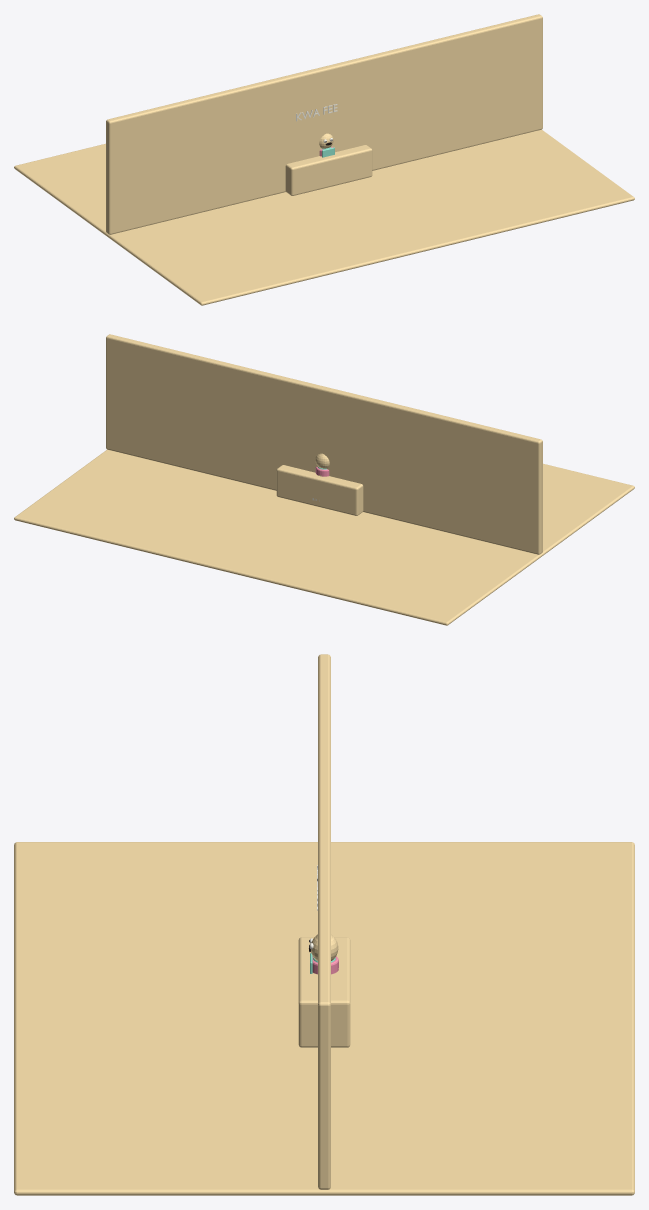
The model's file is core.glb.
3 renders of one model, top to bottom at view 1: azimuth 30°, elevation 25°; view 2: azimuth 150°, elevation 25°; view 3: azimuth 270°, elevation 25°, orthographic. The views are drawn at different scales.
Parts seen in each view (by area): view 1: Wall, Floor, Counter; view 2: Wall, Floor, Counter; view 3: Floor, Wall, Counter.
Boxes of the visible parts, x1,y1,x2,y2 form: Wall: (106, 14, 542, 234); Floor: (14, 129, 634, 305); Counter: (285, 145, 372, 195); Wall: (106, 334, 542, 554); Floor: (14, 449, 634, 625); Counter: (276, 465, 363, 515); Floor: (14, 842, 634, 1195); Wall: (318, 654, 330, 1189); Counter: (298, 937, 350, 1047).
Size of the model in its own units: 16 by 4.12 by 12.
